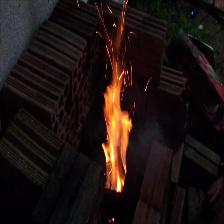fire: (95, 44, 138, 194)
